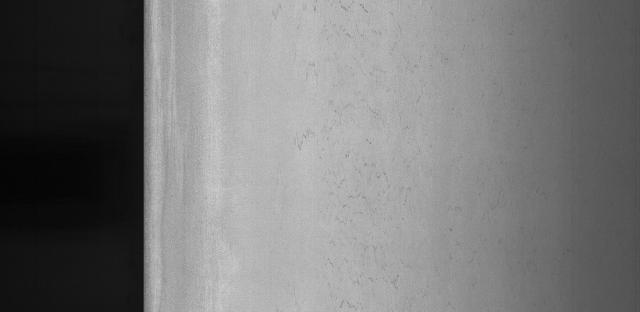silk_spot: (258, 0, 428, 306)
